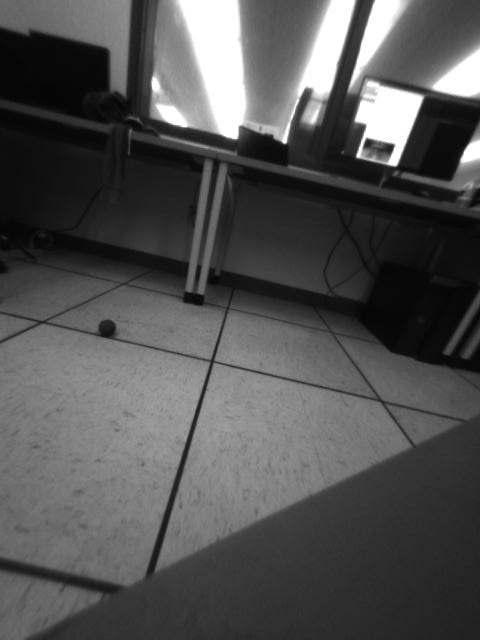dogtoy: (92, 314, 124, 343)
